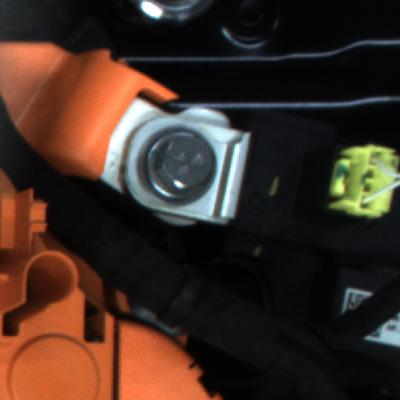nut_b: (133, 126, 226, 202)
